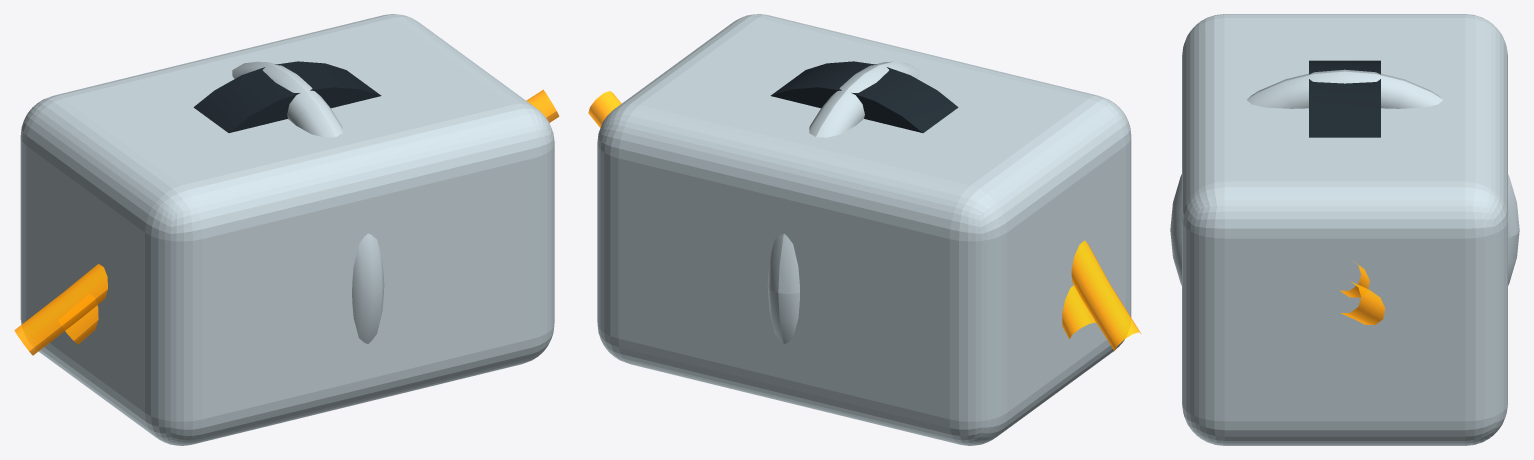
File: transmission_hydraulics_05.glb
3 views of the same model, side by side, from view 1: azimuth 30°, elevation 25°; view 2: azimuth 150°, elevation 25°; view 3: azimuth 270°, elevation 25° (orthographic).
Parts seen in each view (by area): view 1: asset_mesh__transmission_hydraulics_0224__reference_body, asset_mesh__transmission_hydraulics_0233__friction_body, asset_mesh__transmission_hydraulics_0242__functional_ring, asset_mesh__transmission_hydraulics_0250__fluid_path, asset_mesh__transmission_hydraulics_0247__fluid_path; view 2: asset_mesh__transmission_hydraulics_0224__reference_body, asset_mesh__transmission_hydraulics_0233__friction_body, asset_mesh__transmission_hydraulics_0242__functional_ring, asset_mesh__transmission_hydraulics_0250__fluid_path, asset_mesh__transmission_hydraulics_0247__fluid_path; view 3: asset_mesh__transmission_hydraulics_0224__reference_body, asset_mesh__transmission_hydraulics_0242__functional_ring, asset_mesh__transmission_hydraulics_0233__friction_body, asset_mesh__transmission_hydraulics_0250__fluid_path.
Boxes of the visible parts, <box> form: asset_mesh__transmission_hydraulics_0224__reference_body: <box>20,14,554,445</box>; asset_mesh__transmission_hydraulics_0233__friction_body: <box>193,61,381,132</box>; asset_mesh__transmission_hydraulics_0242__functional_ring: <box>232,61,384,343</box>; asset_mesh__transmission_hydraulics_0250__fluid_path: <box>14,89,559,355</box>; asset_mesh__transmission_hydraulics_0247__fluid_path: <box>65,305,98,344</box>; asset_mesh__transmission_hydraulics_0224__reference_body: <box>597,14,1131,445</box>; asset_mesh__transmission_hydraulics_0233__friction_body: <box>770,61,958,132</box>; asset_mesh__transmission_hydraulics_0242__functional_ring: <box>767,61,919,343</box>; asset_mesh__transmission_hydraulics_0250__fluid_path: <box>588,91,1141,351</box>; asset_mesh__transmission_hydraulics_0247__fluid_path: <box>1062,285,1096,338</box>; asset_mesh__transmission_hydraulics_0224__reference_body: <box>1182,14,1507,445</box>; asset_mesh__transmission_hydraulics_0242__functional_ring: <box>1170,69,1519,285</box>; asset_mesh__transmission_hydraulics_0233__friction_body: <box>1309,60,1380,137</box>; asset_mesh__transmission_hydraulics_0250__fluid_path: <box>1340,282,1385,324</box>.
Bounding box in the file's own units: 1.64 × 0.8996 × 0.8996.
